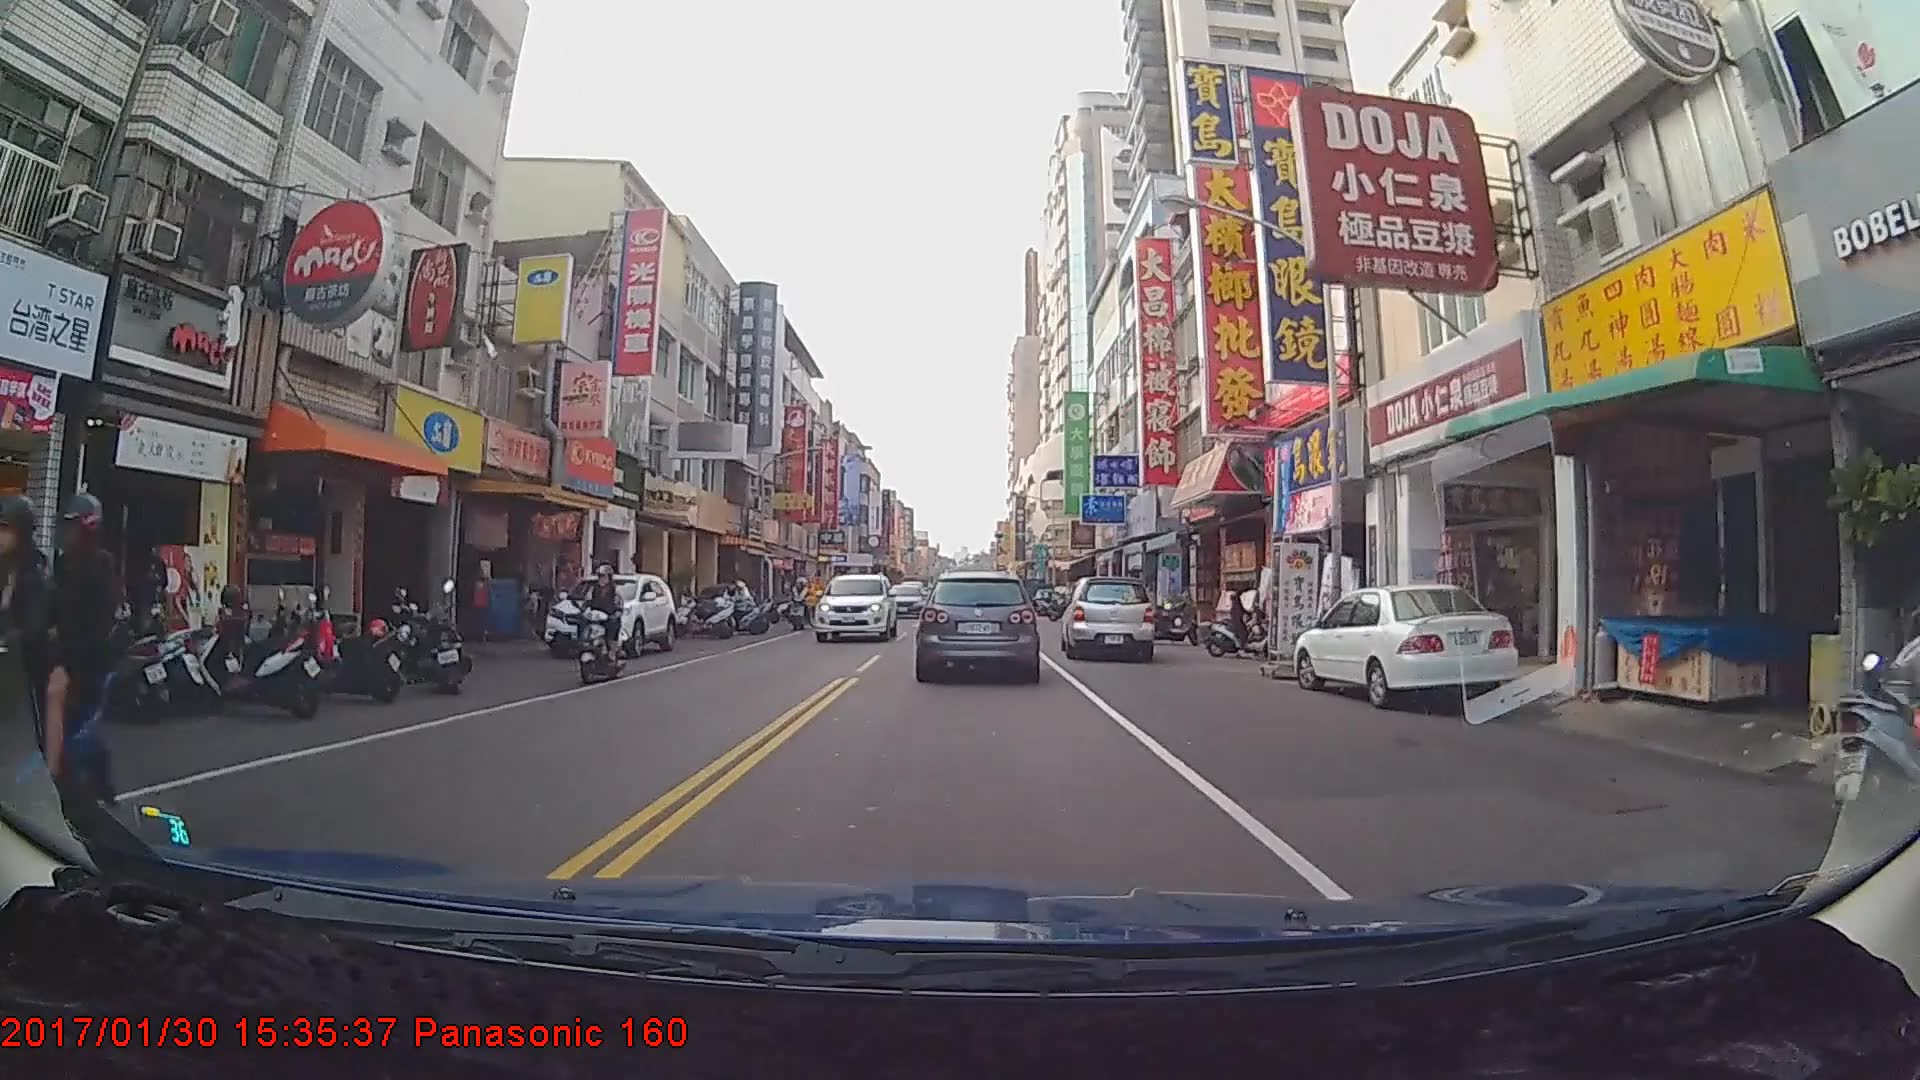rider: (0, 480, 133, 855), (574, 566, 633, 687), (1205, 582, 1286, 662), (786, 573, 815, 634)
vehicle: (1295, 583, 1517, 707), (919, 571, 1038, 680), (541, 572, 677, 658), (1063, 575, 1157, 662), (812, 570, 897, 642), (883, 586, 928, 620)
